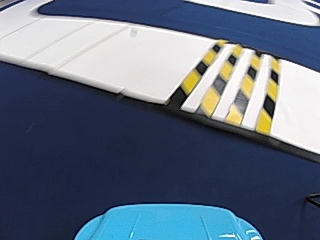bump: (169, 40, 282, 119)
